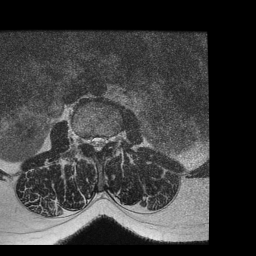CCS_normal: (94, 128, 100, 158)
LFS_normal: (106, 129, 113, 149)
LLS_normal: (100, 130, 106, 153)
RFS_normal: (82, 130, 89, 150)
RLS_normal: (89, 130, 94, 152)
